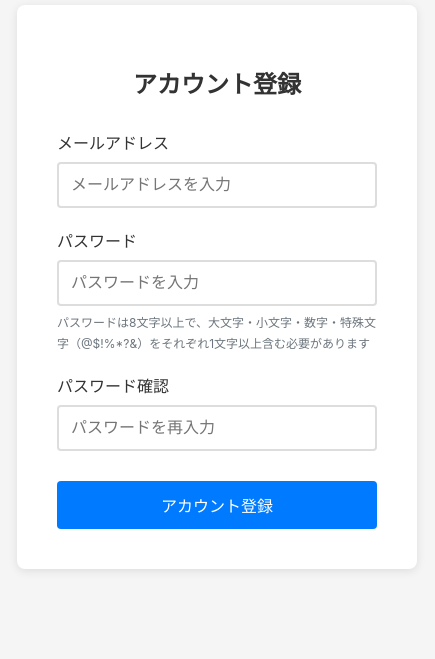
Scenario: RegisterForm › validates password complexity
Note: Test password without special characters
Type "test@example.com" into the field labelled "メールアドレス" at (217, 185), box left=57, top=162, right=377, bottom=208
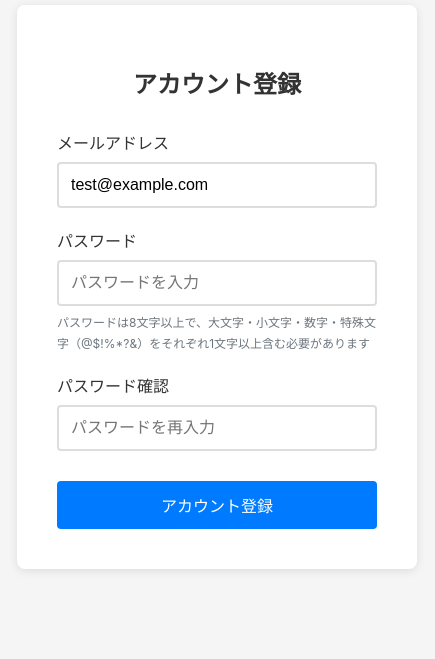
Type "Password123" into the password field labelled "パスワード" at (217, 283), box left=57, top=260, right=377, bottom=306
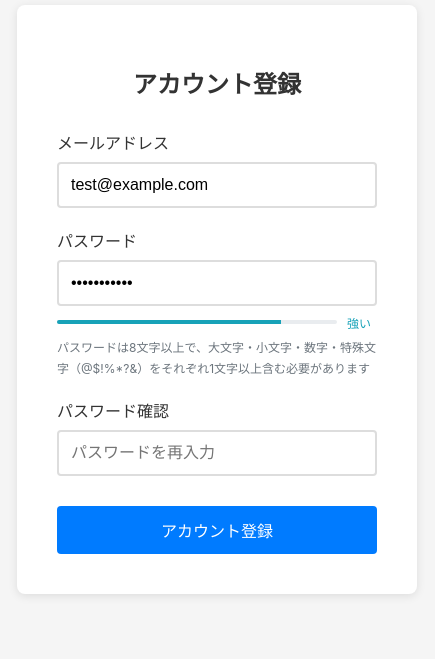
Type "Password123" into the password field labelled "パスワード確認" at (217, 452), box left=57, top=430, right=377, bottom=476
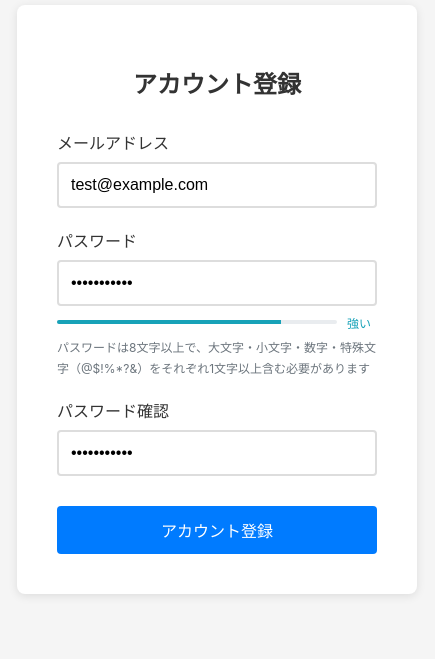
Click the button "アカウント登録" at (217, 530), box left=57, top=506, right=377, bottom=554
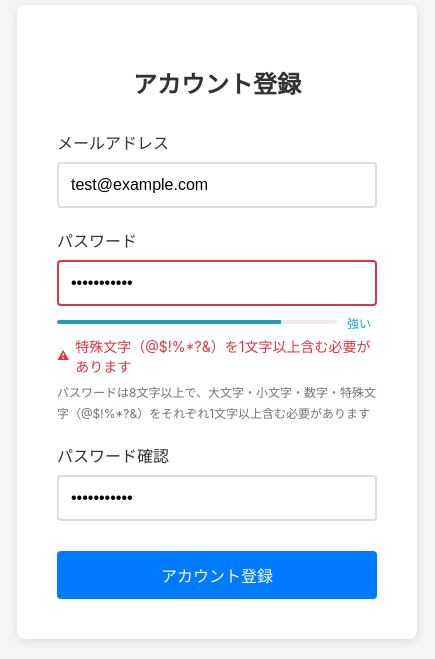
Now the text "特殊文字（@$!%*?&）を1文字以上含む必要があります" is shown, box left=57, top=336, right=377, bottom=376
